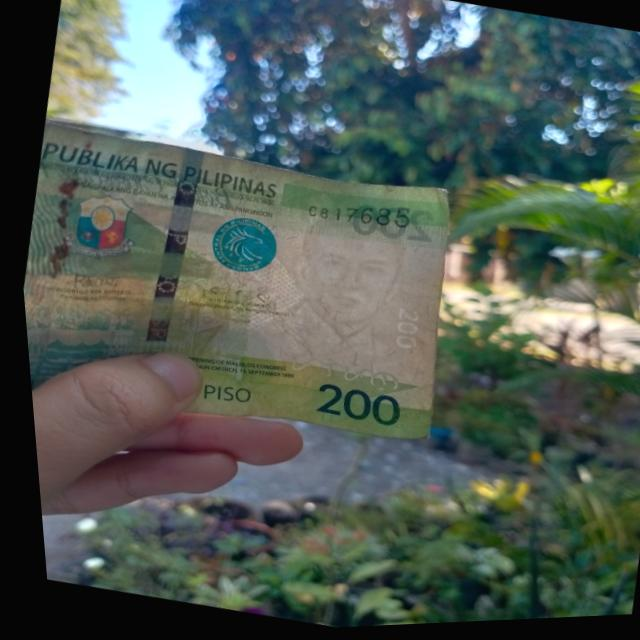security_thread: (123, 148, 219, 370)
see_through_mark: (261, 340, 400, 409)
value_watermark: (379, 304, 427, 364)
watermark: (247, 199, 418, 381)
